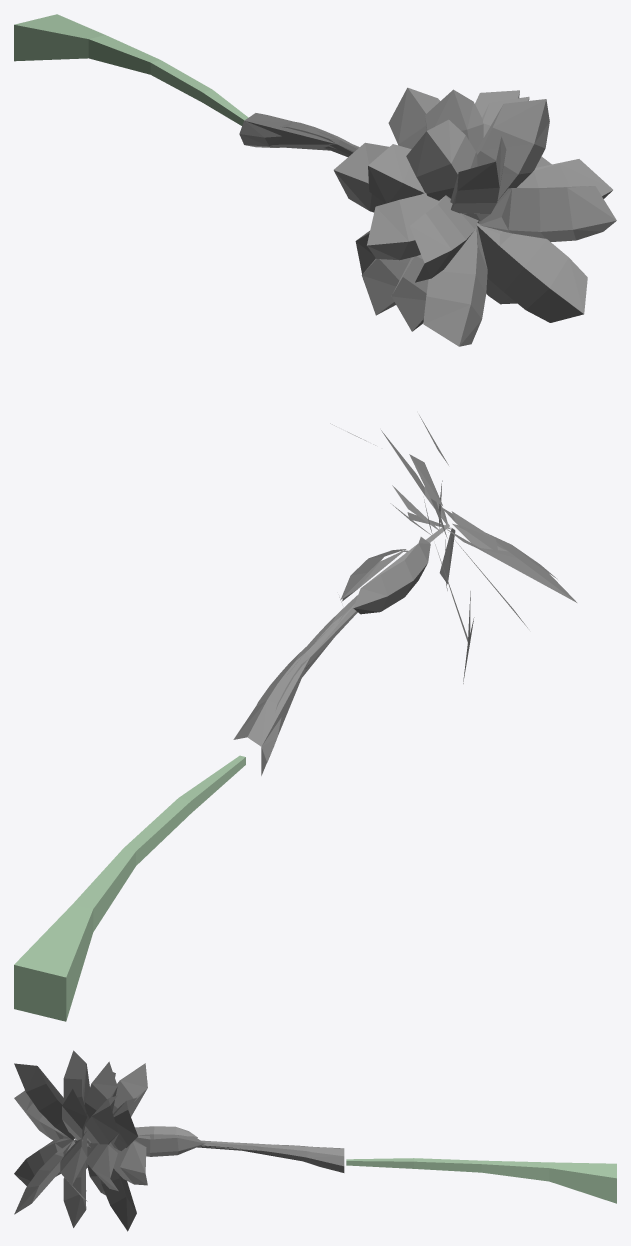
File: trop_Palm02.glb
The picture shows the model from 3 angles, top to bottom: view 1: azimuth 30°, elevation 25°; view 2: azimuth 150°, elevation 25°; view 3: azimuth 270°, elevation 25°; orthographic projection. The views are drawn at different scales.
Parts seen in each view (by area): view 1: geometry_0; view 2: geometry_0; view 3: geometry_0.
Part boxes in pixels (x1,y1,x2,y2): geometry_0: [14, 14, 616, 346]; geometry_0: [14, 415, 576, 1021]; geometry_0: [14, 1050, 616, 1231].
Bounding box in the file's own units: 9.84 × 8.53 × 30.
